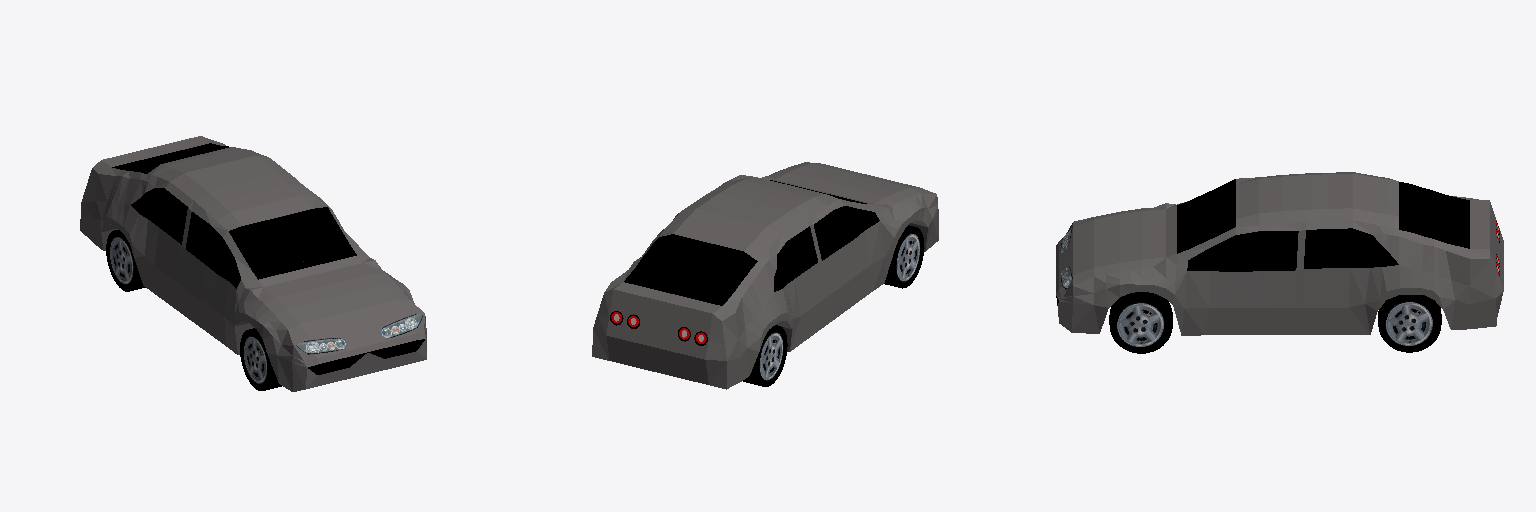
The picture shows the model from 3 angles: view 1: azimuth 30°, elevation 25°; view 2: azimuth 150°, elevation 25°; view 3: azimuth 270°, elevation 25°; orthographic projection.
Visible parts, largest first — view 1: Cube_Cube.001_Materia, Cube.002_Cube.001, Cube_Cube.001_Mat, Cube.002_Cube.002_Cube.002_Cube.001, Cylinder.005_Cyli, Cylinder.004_Cyli, Cube_Cube.001_Mat.002, Cube.002_Cube.001_Mat; view 2: Cube_Cube.001_Materia, Cube.002_Cube.001, Cube_Cube.001_Mat, Cube.002_Cube.002_Cube.002_Cube.001, Cube_Cube.001_Mat.001, Cube.002_Cube_Cube.002_Cube.001, Cylinder.005_Cyli, Cylinder.004_Cyli; view 3: Cube.002_Cube.001, Cube.002_Cube.002_Cube.002_Cube.001, Cube_Cube.001_Materia, Cube_Cube.001_Mat, Cylinder.003_Cylinder, Cylinder_Cylinder.001.
Part boxes in pixels (x1,y1,x2,y2): Cube_Cube.001_Materia: (80,148,367,391); Cube.002_Cube.001: (152,136,426,374); Cube_Cube.001_Mat: (112,155,367,374); Cube.002_Cube.002_Cube.002_Cube.001: (164,143,424,358); Cylinder.005_Cyli: (240,329,271,390); Cylinder.004_Cyli: (106,230,137,291); Cube_Cube.001_Mat.002: (294,332,348,360); Cube.002_Cube.001_Mat: (377,314,424,341); Cube_Cube.001_Materia: (656,176,938,389); Cube.002_Cube.001: (592,162,870,372); Cube_Cube.001_Mat: (674,190,879,305); Cube.002_Cube.002_Cube.002_Cube.001: (624,180,817,293); Cube_Cube.001_Mat.001: (674,306,712,359); Cube.002_Cube_Cube.002_Cube.001: (606,289,644,342); Cylinder.005_Cyli: (893,227,923,288); Cylinder.004_Cyli: (756,325,787,386); Cube.002_Cube.001: (1056,191,1503,335); Cube.002_Cube.002_Cube.002_Cube.001: (1056,199,1469,305); Cube_Cube.001_Materia: (1056,172,1503,268); Cube_Cube.001_Mat: (1177,179,1469,228); Cylinder.003_Cylinder: (1110,296,1172,353); Cylinder_Cylinder.001: (1378,295,1441,352).
Bounding box in the file's own units: 3.23 × 2.69 × 8.38.
6 materials, 5 textured.